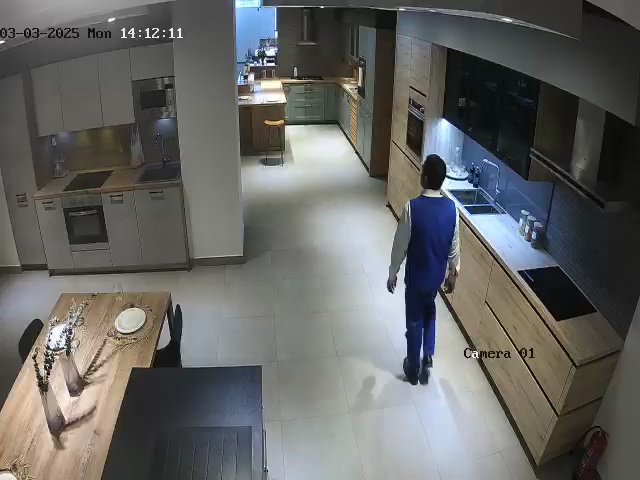employee: (386, 154, 461, 386)
